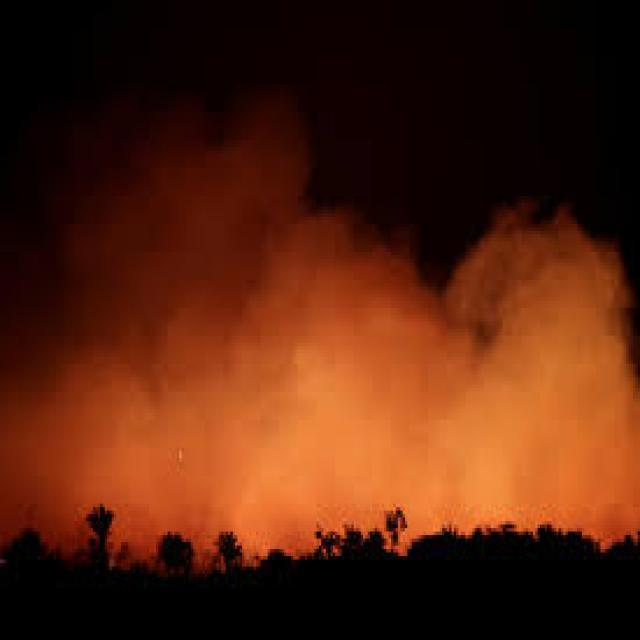Smoke: (0, 110, 343, 560), (340, 167, 640, 557)
